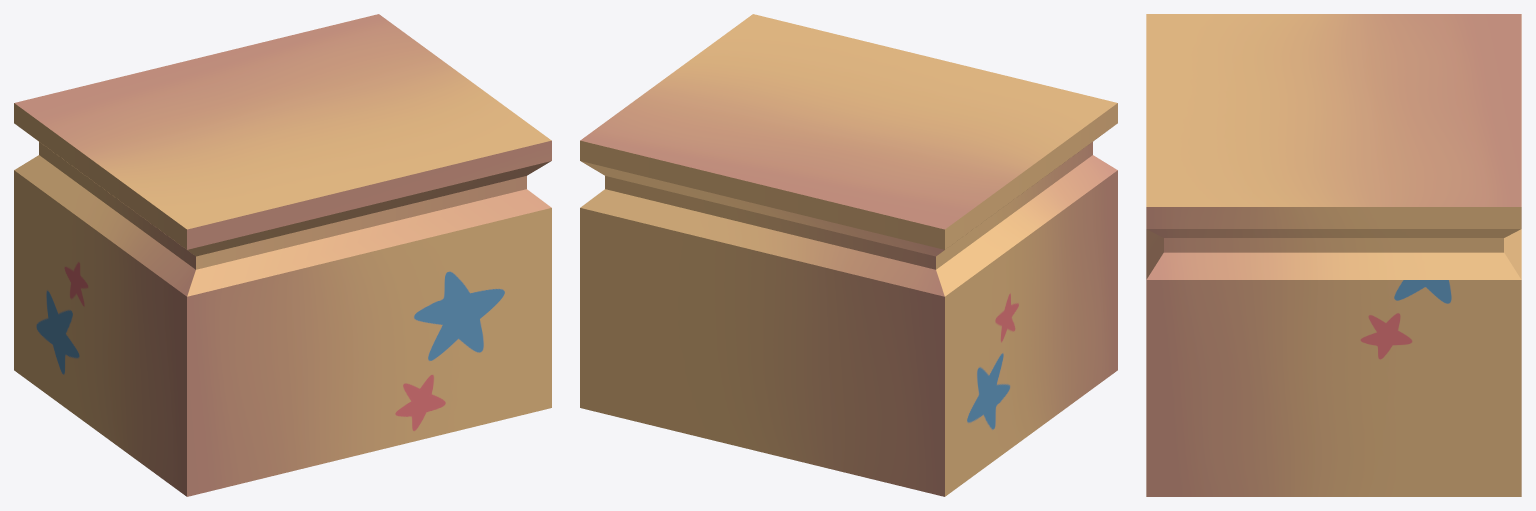
The model's file is petit coffre.fbx.
3 renders of one model, left to right at view 1: azimuth 30°, elevation 25°; view 2: azimuth 150°, elevation 25°; view 3: azimuth 270°, elevation 25°, orthographic. The views are drawn at different scales.
Visible parts, largest first — view 1: Cube; view 2: Cube; view 3: Cube.
Boxes of the visible parts, bbox=[...] form: Cube: bbox=[14, 14, 551, 496]; Cube: bbox=[580, 14, 1117, 496]; Cube: bbox=[1146, 14, 1521, 496].
Size of the model in its own units: 220 by 154 by 180.
